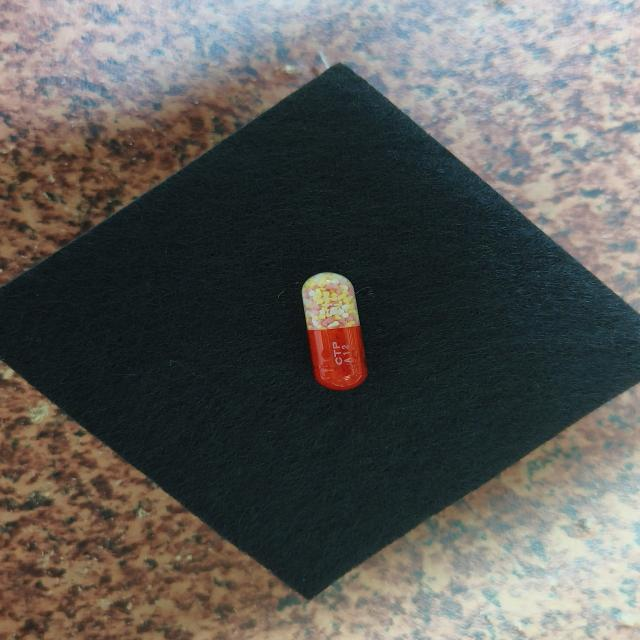Intact Capsule: (302, 273, 367, 390)
